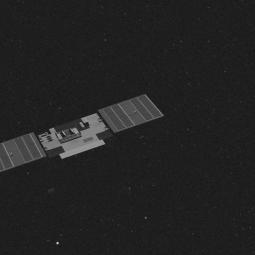proba_2: (0, 82, 176, 178)
